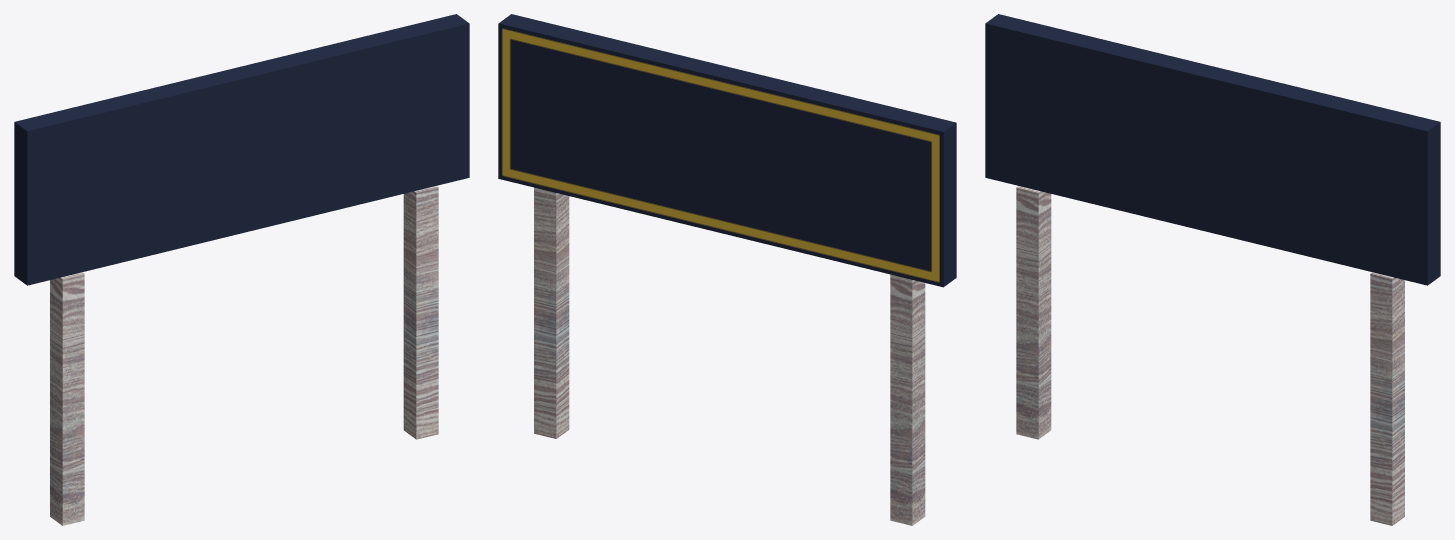
The model's file is stage_sign.obj.
3 views of the same model, side by side, from view 1: azimuth 30°, elevation 25°; view 2: azimuth 150°, elevation 25°; view 3: azimuth 330°, elevation 25° (orthographic).
Parts seen in each view (by area): view 1: Board, PostR, PostL; view 2: Board_Face, PostR, PostL, Board; view 3: Board, PostL, PostR.
Part boxes in pixels (bbox=[...]): Board: bbox=[14, 14, 469, 285]; PostR: bbox=[403, 186, 438, 439]; PostL: bbox=[50, 272, 84, 525]; Board_Face: bbox=[498, 23, 943, 287]; PostR: bbox=[534, 187, 569, 438]; PostL: bbox=[890, 274, 925, 525]; Board: bbox=[499, 14, 956, 286]; Board: bbox=[985, 14, 1440, 285]; PostL: bbox=[1016, 186, 1051, 439]; PostR: bbox=[1370, 272, 1404, 525].
Bounding box in the file's own units: 6 × 5.2 × 0.355.
